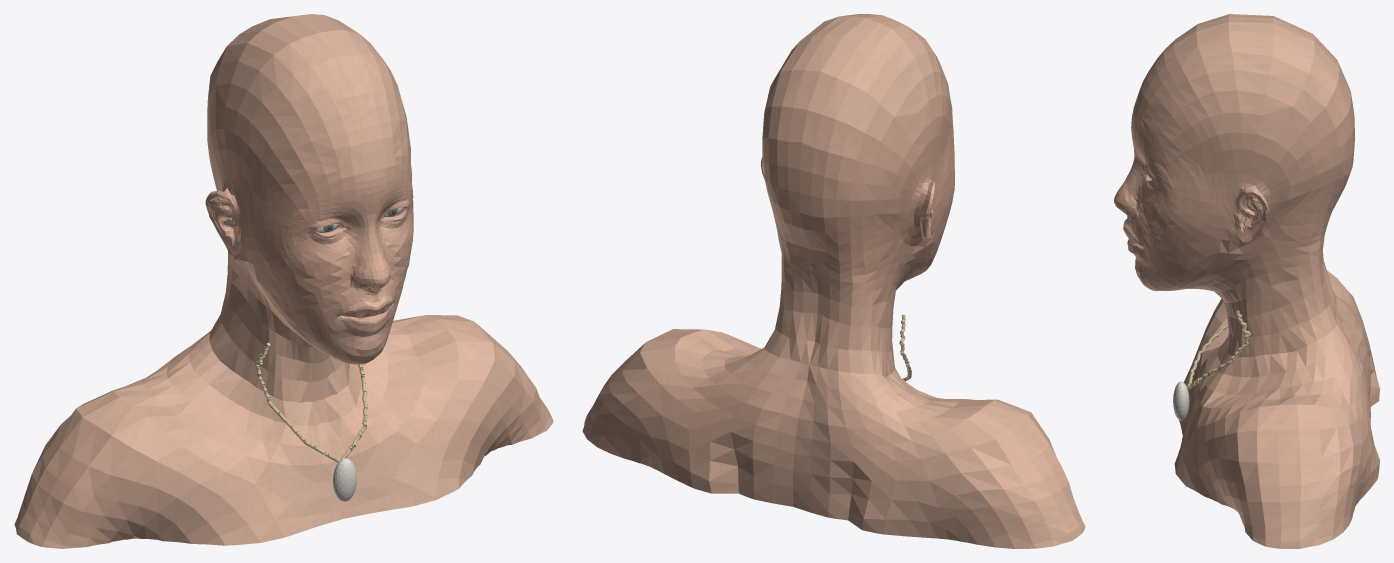
Rendered from necklace.glb.
The picture shows the model from 3 angles, left to right: view 1: azimuth 30°, elevation 25°; view 2: azimuth 150°, elevation 25°; view 3: azimuth 270°, elevation 25°; orthographic projection. The views are drawn at different scales.
Parts seen in each view (by area): view 1: kwu_necklace_v6_00, kwu_necklace_v6_01, kwu_necklace_v6_02; view 2: kwu_necklace_v6_00; view 3: kwu_necklace_v6_00, kwu_necklace_v6_01, kwu_necklace_v6_02.
Boxes of the visible parts, left/top/right/bottom form: kwu_necklace_v6_00: left=14, top=14, right=553, bottom=548; kwu_necklace_v6_01: left=255, top=342, right=367, bottom=462; kwu_necklace_v6_02: left=333, top=458, right=356, bottom=501; kwu_necklace_v6_00: left=582, top=14, right=1085, bottom=548; kwu_necklace_v6_00: left=1114, top=14, right=1379, bottom=548; kwu_necklace_v6_01: left=1187, top=310, right=1250, bottom=389; kwu_necklace_v6_02: left=1173, top=381, right=1189, bottom=420.
Size of the model in its own units: 3.36 by 2.87 by 1.67.
Materials: 1 (1 with a texture image).
